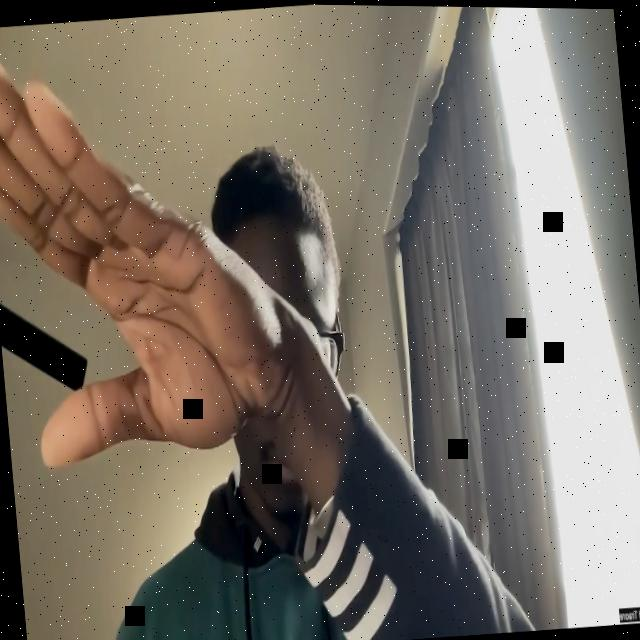Paper: (0, 6, 319, 476)
